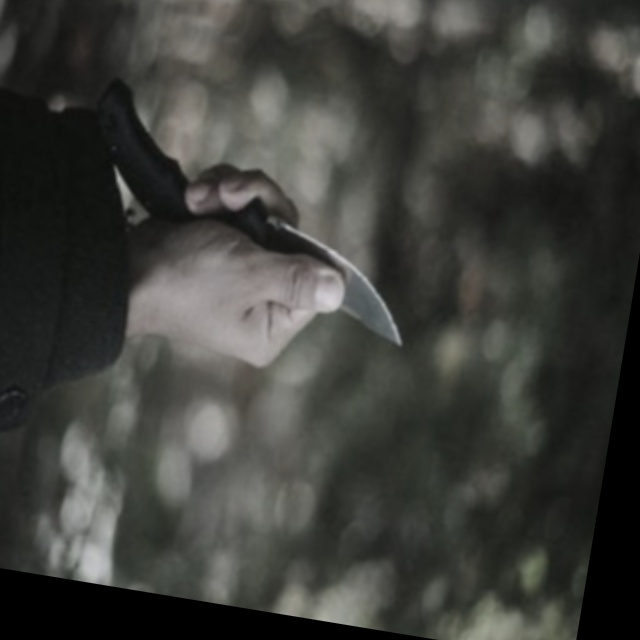Sharp-Object: (66, 75, 434, 341)
